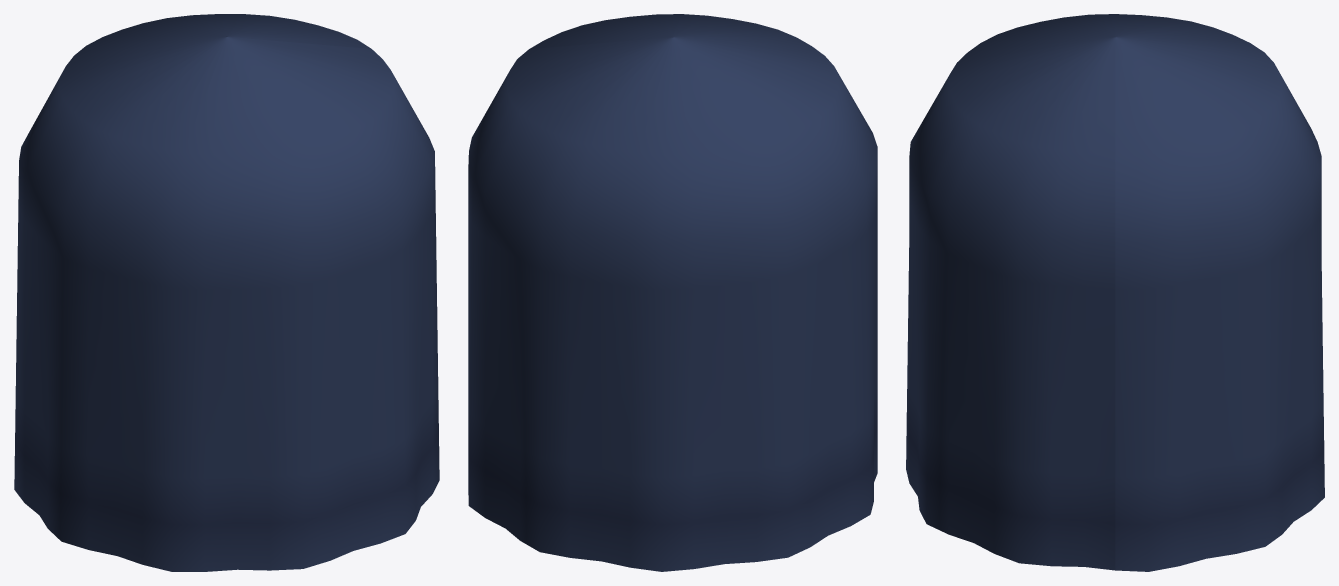
The model's file is ao_long.glb.
3 views of the same model, side by side, from view 1: azimuth 30°, elevation 25°; view 2: azimuth 150°, elevation 25°; view 3: azimuth 270°, elevation 25° (orthographic).
Visible parts, largest first — view 1: ao_long; view 2: ao_long; view 3: ao_long.
Boxes of the visible parts, box(x1,y1,x2,y2) form: ao_long: box(14, 14, 439, 571); ao_long: box(468, 14, 877, 571); ao_long: box(906, 14, 1324, 571).
Size of the model in its own units: 0.4168 by 0.49 by 0.4168.
